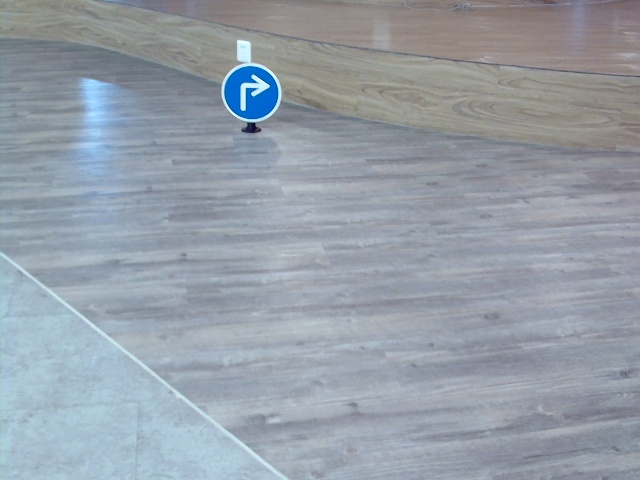turn_right: (233, 75, 270, 110)
